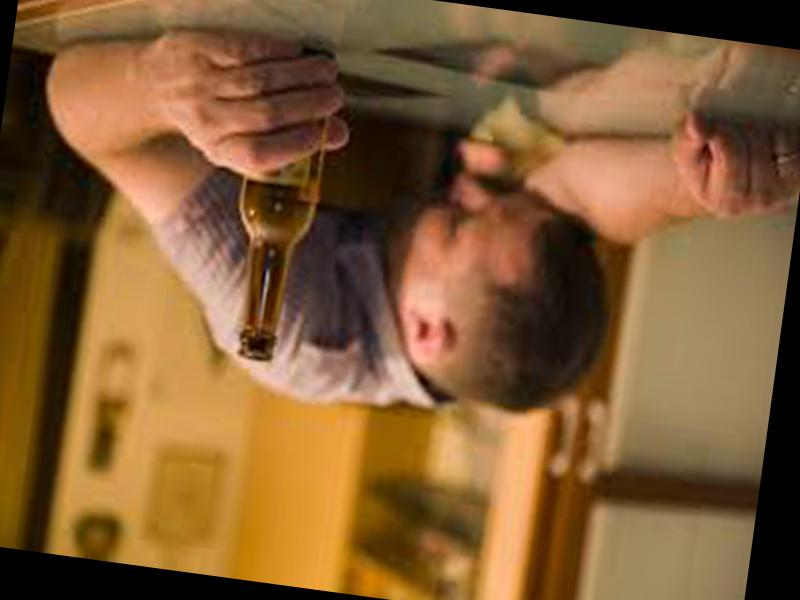Beer: (222, 39, 335, 367)
